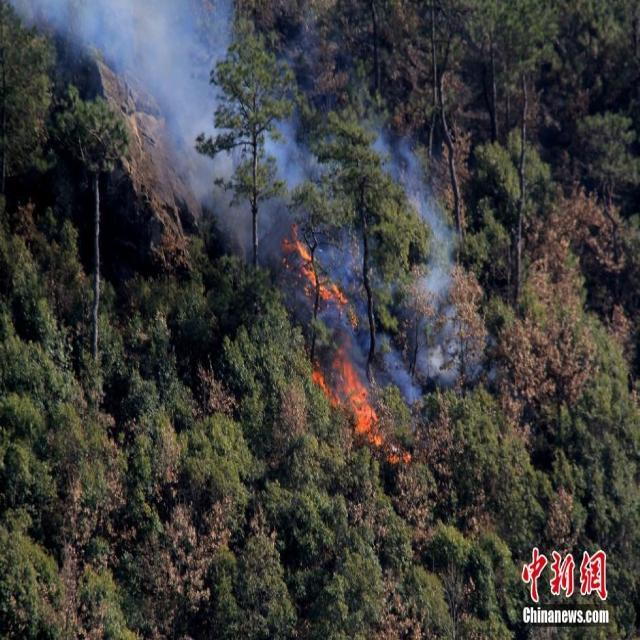Fire: (311, 347, 411, 465), (282, 222, 350, 311)
Smoke: (358, 125, 501, 382), (136, 70, 314, 225), (18, 0, 238, 68)
